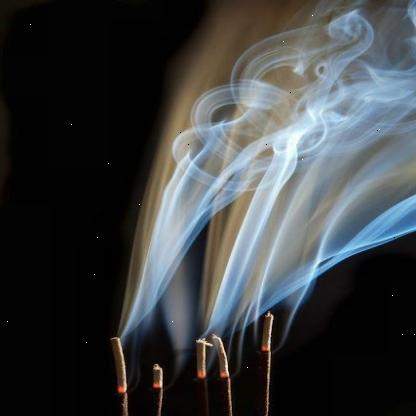smoke: (111, 1, 416, 373)
